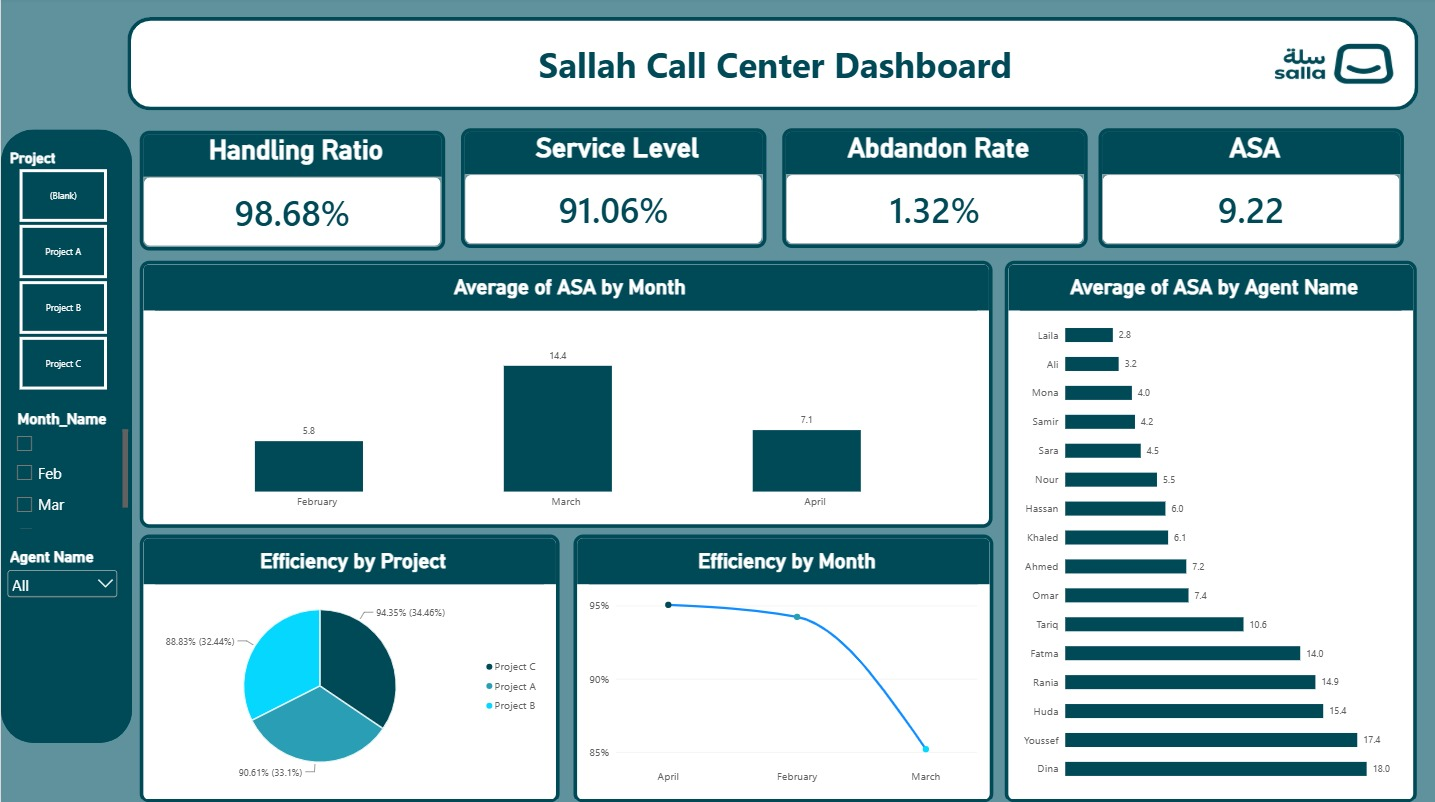

This screenshot's page, from the dashboard's own definition file:
{"tool":"powerbi","page":{"name":"Overview","canvas":[1920,1080],"ordinal":1},"visuals":[{"type":"shape","box":[167.9,26.8,1725,125],"z":0},{"type":"shape","box":[0,176.8,175,819.6],"z":1000},{"type":"image","box":[1670,0,222,178],"z":2000},{"type":"actionButton","box":[175,44.6,1717.9,89.3],"z":3000},{"type":"cardVisual","title":"Handling Ratio","fields":{"Data":["sallah dataset.Handling Calls Ratio"]},"box":[186,178,408,160],"z":4000},{"type":"cardVisual","title":"Service Level","fields":{"Data":["sallah dataset.Service Level"]},"box":[614,176,408,160],"z":5000},{"type":"cardVisual","title":"Abdandon Rate","fields":{"Data":["sallah dataset.Abdandon Rate"]},"box":[1044,176,408,160],"z":6000},{"type":"cardVisual","title":"ASA","fields":{"Data":["Avg(sallah dataset.ASA)"]},"box":[1466,176,408,160],"z":7000},{"type":"columnChart","title":"Average of ASA by Month","fields":{"Category":["sallah dataset.Date.Variation.Date Hierarchy.Month","sallah dataset.Day Name"],"Y":["Avg(sallah dataset.ASA)"]},"box":[185.7,351.8,1139.3,357.1],"z":8000},{"type":"pieChart","fields":{"Category":["sallah dataset.Project"],"Y":["sallah dataset.Efficiency"]},"box":[185.7,717.9,560.7,358.9],"z":9000},{"type":"lineChart","fields":{"Category":["sallah dataset.Date.Variation.Date Hierarchy.Month"],"Y":["sallah dataset.Efficiency"]},"box":[764.3,717.9,560.7,358.9],"z":10000},{"type":"clusteredBarChart","title":"Sum of ASA by Agent Name","fields":{"Category":["sallah dataset.Agent Name"],"Y":["Avg(sallah dataset.ASA)"]},"box":[1341.1,351.8,550,725],"z":11000},{"type":"slicer","fields":{"Values":["sallah dataset.Month_Name"]},"box":[10.7,548.2,164.3,166.1],"z":12000},{"type":"slicer","fields":{"Values":["sallah dataset.Project"]},"box":[0,200,164.3,330.4],"z":13000},{"type":"slicer","fields":{"Values":["sallah dataset.Agent Name"]},"box":[0,732.1,164.3,166.1],"z":14000}]}

Visuals, with their boxes in screenshot pixels (x1, y1, x2, y2), scaled from the page's 1920x1080 canvas onto the 1435x802 screenshot:
shape: Rect(125, 20, 1415, 113)
shape: Rect(0, 131, 131, 740)
image: Rect(1248, 0, 1414, 132)
actionButton: Rect(131, 33, 1415, 99)
"Handling Ratio" cardVisual: Rect(139, 132, 444, 251)
"Service Level" cardVisual: Rect(459, 131, 764, 250)
"Abdandon Rate" cardVisual: Rect(780, 131, 1085, 250)
"ASA" cardVisual: Rect(1096, 131, 1401, 250)
"Average of ASA by Month" columnChart: Rect(139, 261, 990, 526)
pieChart - sallah dataset.Project x sallah dataset.Efficiency: Rect(139, 533, 558, 800)
lineChart - sallah dataset.Date.Variation.Date Hierarchy.Month x sallah dataset.Efficiency: Rect(571, 533, 990, 800)
"Sum of ASA by Agent Name" clusteredBarChart: Rect(1002, 261, 1413, 800)
slicer - sallah dataset.Month_Name: Rect(8, 407, 131, 530)
slicer - sallah dataset.Project: Rect(0, 149, 123, 394)
slicer - sallah dataset.Agent Name: Rect(0, 544, 123, 667)
